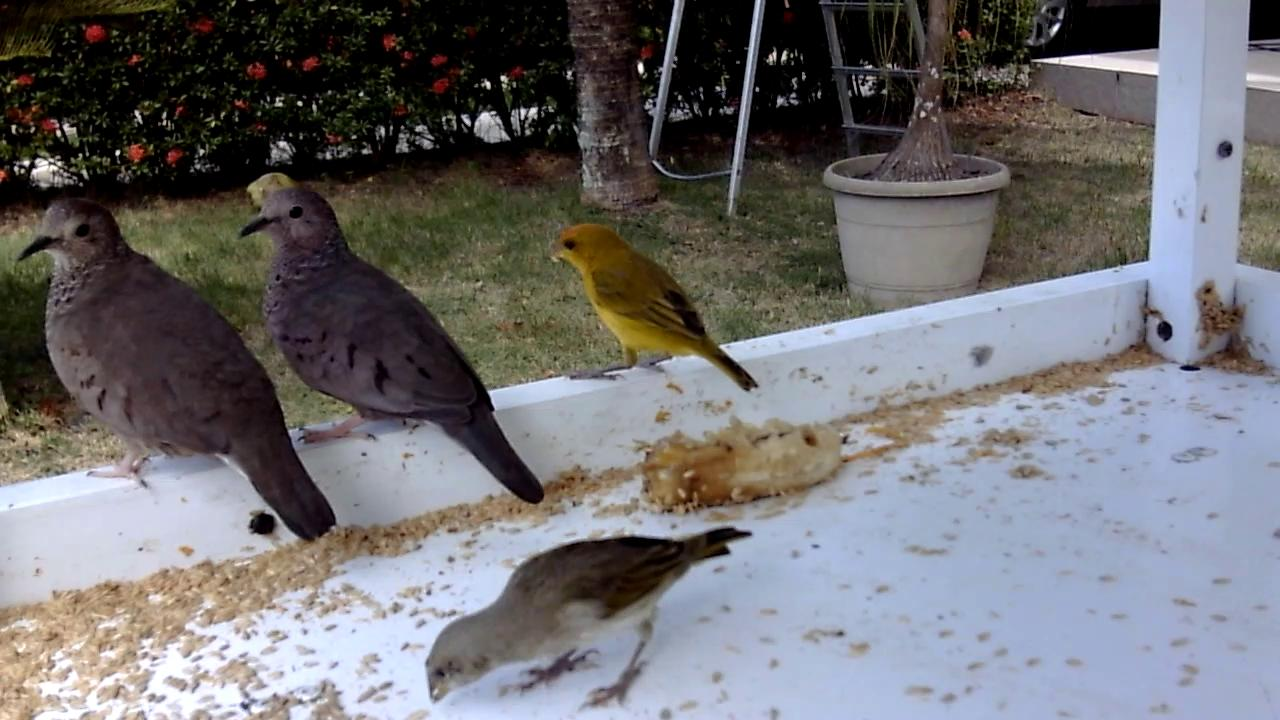canario_do_amazonas: (419, 522, 759, 713), (541, 223, 761, 395)
rolinha: (17, 197, 340, 548), (237, 189, 548, 509)
